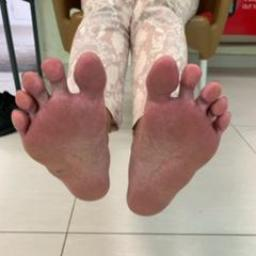Plantar View -Both Feet-: (1, 29, 242, 229)
